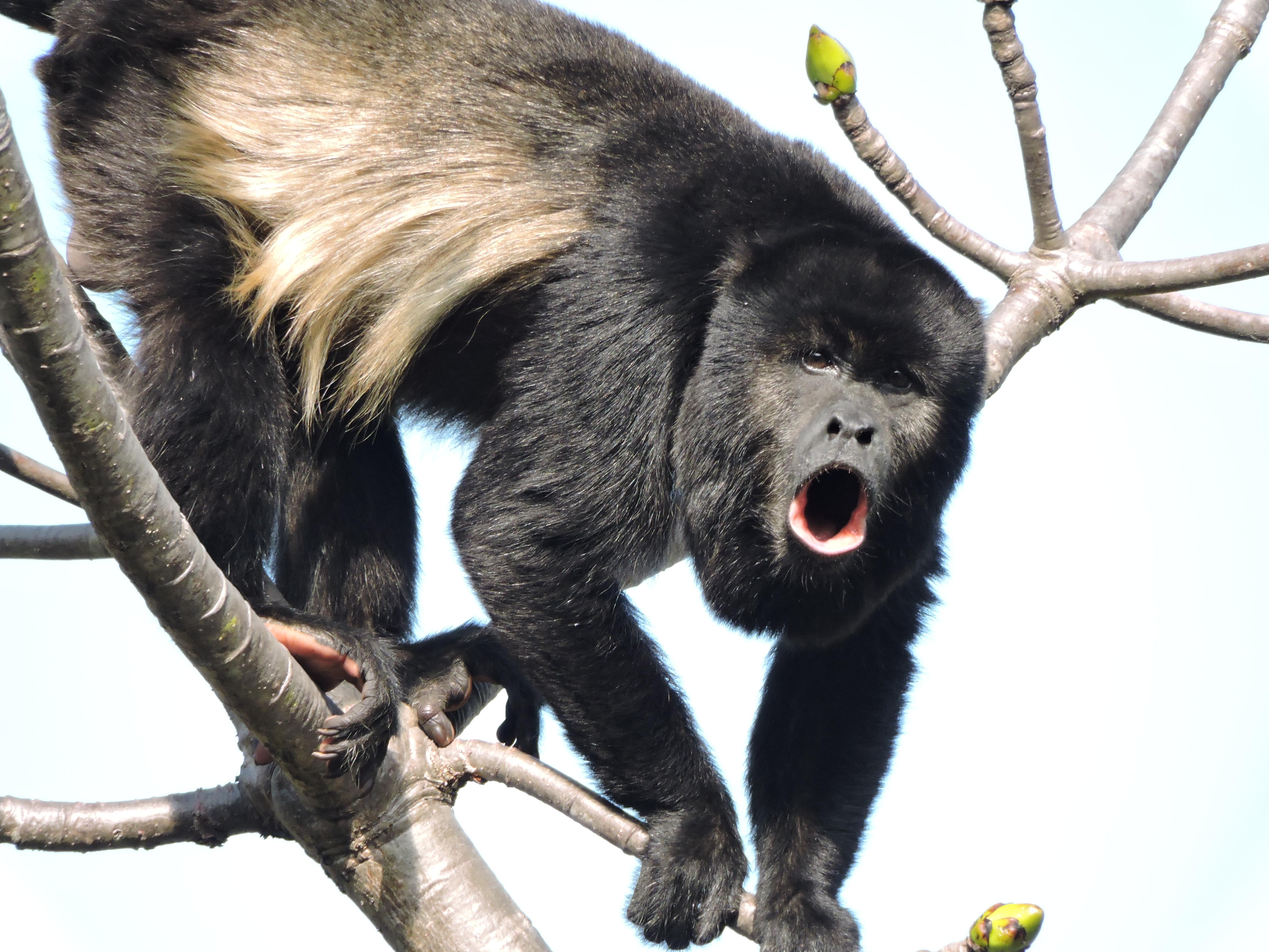monkey: (97, 0, 1002, 952)
